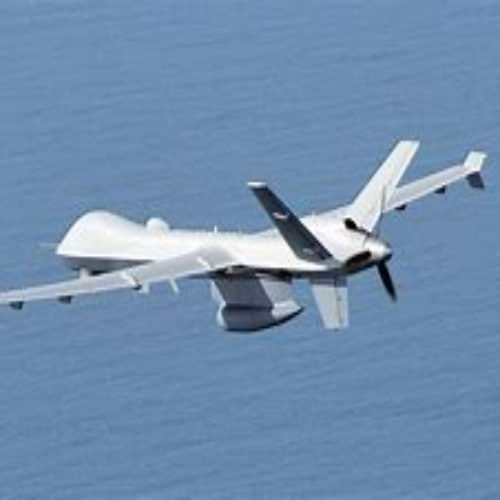uav567: (7, 140, 488, 337)
